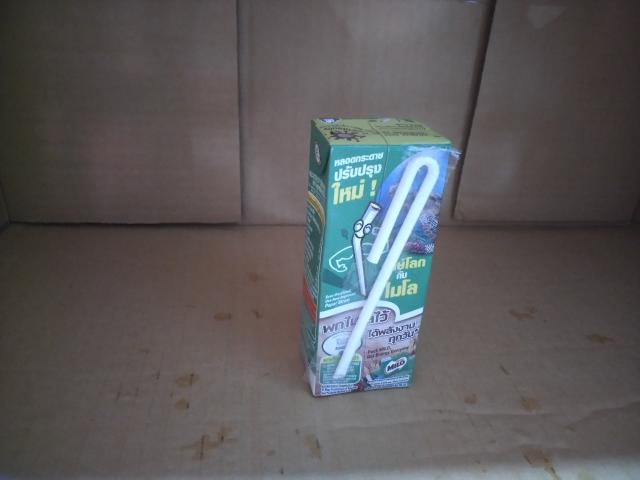drink_box: (290, 98, 460, 403)
